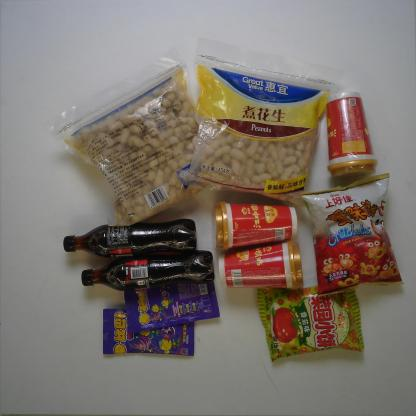Candy: (120, 280, 222, 336), (100, 305, 197, 358)
Dried Food: (46, 44, 216, 229), (176, 36, 348, 211)
Drink: (79, 248, 216, 293), (62, 219, 199, 260)
Instant Drink: (322, 88, 379, 181), (216, 237, 307, 292), (209, 199, 300, 253)
Puffed Food: (297, 171, 407, 298), (252, 284, 368, 364)
